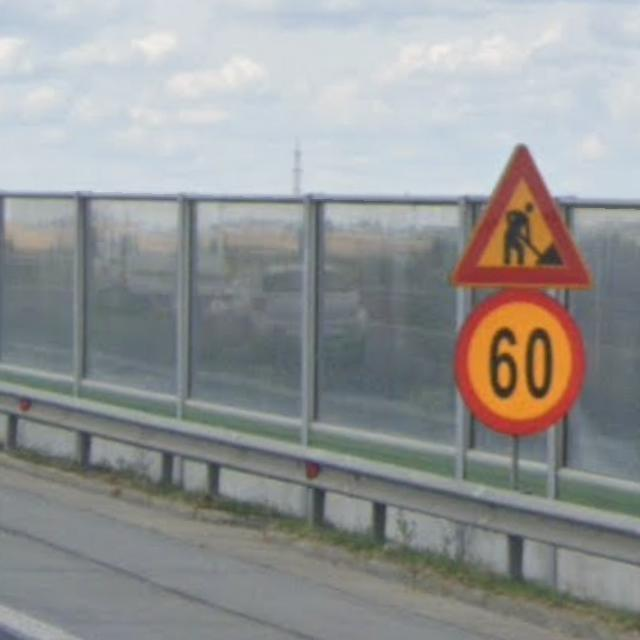forb_speed_over_60: (455, 289, 585, 437)
